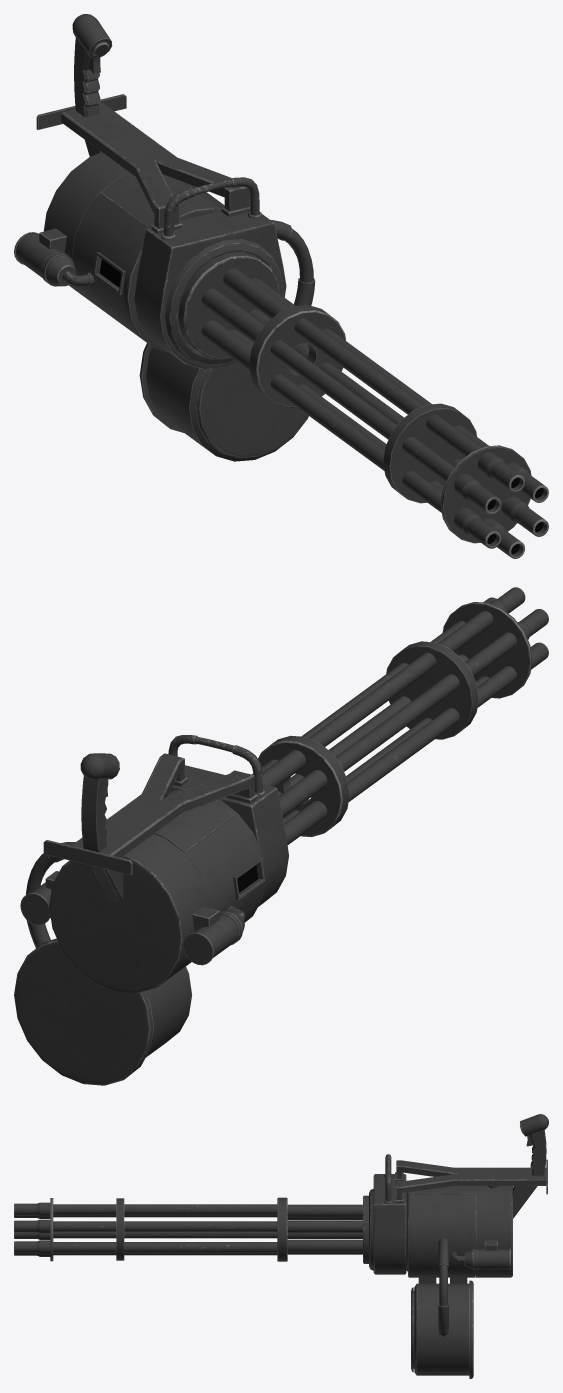
File: gatling_gun.glb
3 views of the same model, one above another, from view 1: azimuth 30°, elevation 25°; view 2: azimuth 150°, elevation 25°; view 3: azimuth 270°, elevation 25° (orthographic). The views are drawn at different scales.
Visible parts, largest first — view 1: MotorUVModel, AmmoUVModel, SNDUVModel, GrapUVModel2, pCylinder17, pCylinder16, pCylinder20, Cylnder3UVModel, pCylinder10, group3_pCylinder13, pCylinder12, pCylinder18 (+7 smaller); view 2: MotorUVModel, AmmoUVModel, SNDUVModel, pCylinder17, pCylinder16, pCylinder20, group3_pCylinder13, GrapUVModel2, pCylinder10, pCylinder12, polySurface4 (×2), GrapUVModel3 (+7 smaller); view 3: MotorUVModel, AmmoUVModel, pCylinder15, pCylinder16, pCylinder18, SNDUVModel, GrapUVModel2, pCylinder20, pCylinder19, pCylinder17, GrapUVModel, polySurface4 (+7 smaller).
Boxes of the visible parts, x1,y1,x2,y2 form: MotorUVModel: (43,152,283,364); AmmoUVModel: (139,343,308,461); SNDUVModel: (36,94,250,233); GrapUVModel2: (134,211,286,369); pCylinder17: (201,288,501,514); pCylinder16: (223,268,524,492); pCylinder20: (201,320,501,548); Cylnder3UVModel: (178,251,279,359); pCylinder10: (249,305,345,407); group3_pCylinder13: (383,403,476,503); pCylinder12: (440,445,531,543); pCylinder18: (248,309,548,536); MotorUVModel: (49,789,265,993); AmmoUVModel: (14,938,191,1085); SNDUVModel: (43,753,257,875); pCylinder17: (279,609,548,817); pCylinder16: (262,587,525,787); pCylinder20: (284,642,548,844); group3_pCylinder13: (386,641,478,739); GrapUVModel2: (171,765,288,906); pCylinder10: (258,735,349,836); pCylinder12: (442,602,532,698); polySurface4 (×2): (20,882,244,965); GrapUVModel3: (81,776,108,852); MotorUVModel: (369,1186,512,1277); AmmoUVModel: (411,1280,473,1378); pCylinder15: (14,1219,362,1233); pCylinder16: (14,1202,362,1216); pCylinder18: (14,1239,362,1253); SNDUVModel: (395,1159,547,1202); GrapUVModel2: (373,1174,406,1274); pCylinder20: (14,1231,362,1239); pCylinder19: (14,1252,362,1256); pCylinder17: (14,1214,362,1219); GrapUVModel: (438,1237,448,1336); polySurface4: (464,1248,510,1269).
Size of the model in its own units: 0.5904 by 0.9006 by 1.82.
Materials: 1 (1 with a texture image).
